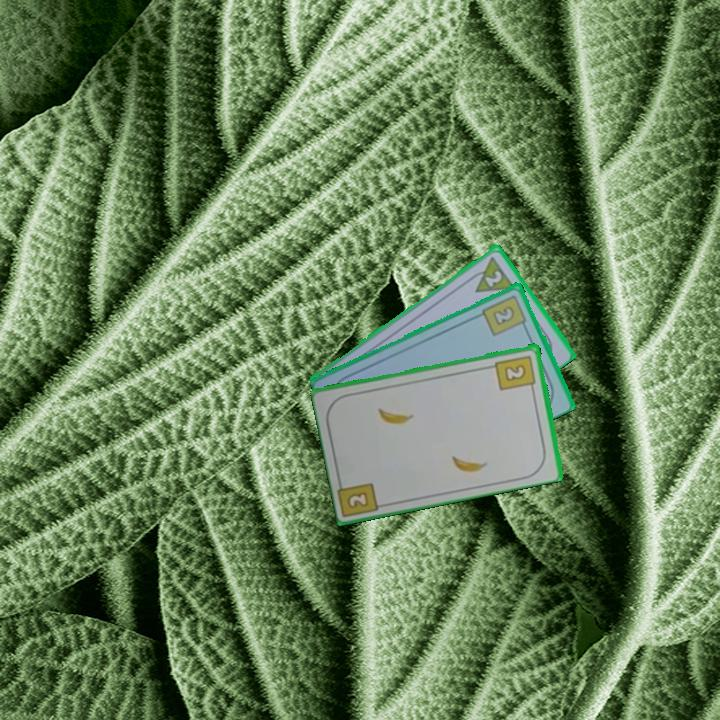2b: (479, 291, 530, 338), (492, 351, 539, 393), (343, 488, 372, 512)
2p: (464, 252, 517, 295)
